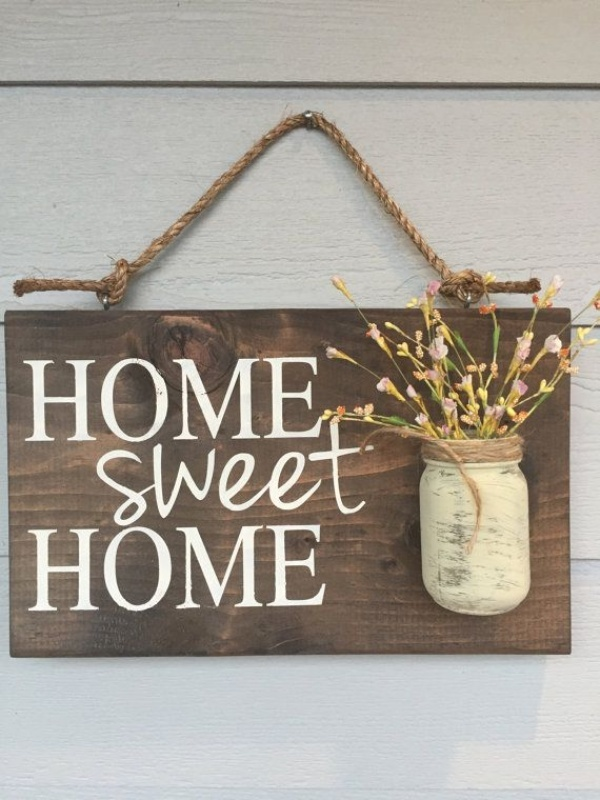text: (97, 422, 112, 529), (113, 422, 128, 529), (129, 422, 144, 529), (145, 422, 160, 529), (161, 422, 176, 529), (177, 422, 192, 529), (193, 422, 208, 529), (209, 422, 224, 529), (225, 422, 240, 529), (241, 422, 256, 529), (257, 422, 272, 529), (273, 422, 288, 529), (289, 422, 304, 529), (305, 422, 320, 529), (321, 422, 336, 529), (337, 422, 352, 529), (353, 422, 368, 529), (33, 526, 48, 614), (49, 526, 64, 614), (65, 526, 80, 614), (81, 526, 96, 614), (97, 526, 112, 614), (113, 526, 128, 614), (129, 526, 144, 614), (145, 526, 160, 614), (161, 526, 176, 614), (177, 526, 192, 614), (193, 526, 208, 614), (209, 526, 224, 614), (225, 526, 240, 614), (241, 526, 256, 614), (257, 526, 272, 614), (273, 526, 288, 614), (289, 526, 304, 614), (305, 526, 320, 614), (33, 358, 48, 443), (49, 358, 64, 443), (65, 358, 80, 443), (81, 358, 96, 443), (97, 358, 112, 443), (113, 358, 128, 443), (129, 358, 144, 443), (145, 358, 160, 443), (161, 358, 176, 443), (177, 358, 192, 443), (193, 358, 208, 443), (209, 358, 224, 443), (225, 358, 240, 443), (241, 358, 256, 443), (257, 358, 272, 443), (273, 358, 288, 443), (289, 358, 304, 443), (305, 358, 320, 443), (23, 358, 32, 443), (369, 422, 376, 529), (321, 526, 329, 614), (91, 422, 96, 529), (26, 526, 32, 614), (321, 358, 325, 443)
